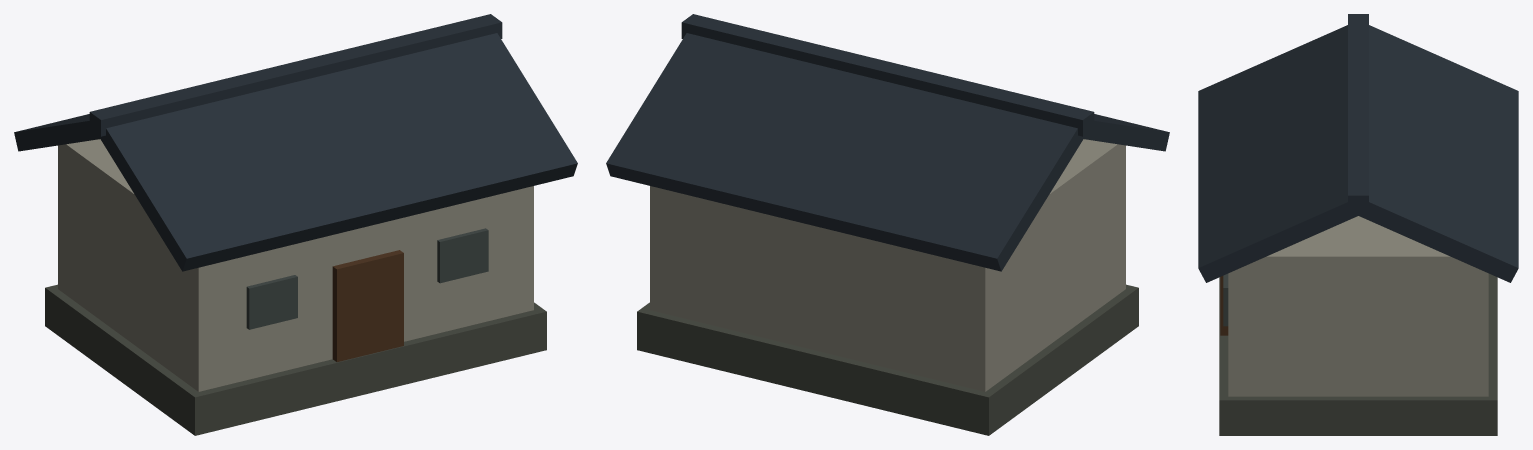
File: v055_eco_assets.glb
3 renders of one model, left to right at view 1: azimuth 30°, elevation 25°; view 2: azimuth 150°, elevation 25°; view 3: azimuth 270°, elevation 25°, orthographic. The views are drawn at different scales.
Visible parts, largest first — view 1: horizon_farmhouse; view 2: horizon_farmhouse; view 3: horizon_farmhouse.
Part boxes in pixels (x1,y1,x2,y2): horizon_farmhouse: [14, 14, 577, 435]; horizon_farmhouse: [606, 14, 1169, 435]; horizon_farmhouse: [1198, 14, 1518, 435].
Bounding box in the file's own units: 6.1 × 3.94 × 4.55.
